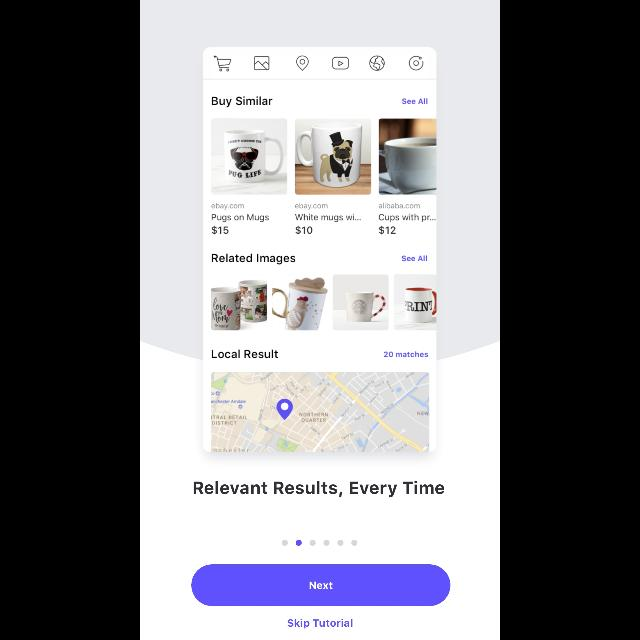image: (204, 48, 436, 452)
pageindicator: (282, 540, 358, 546)
text: (194, 480, 444, 498), (288, 618, 352, 628)
textbutton: (192, 564, 450, 606)
